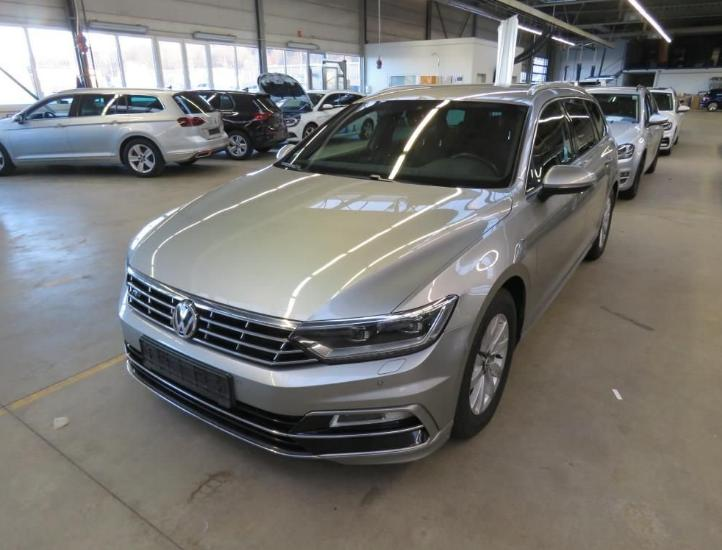Back-door: (561, 97, 612, 257)
Back-wheel: (585, 188, 614, 261)
Back-window: (564, 100, 605, 155)
Fender: (393, 179, 536, 333)
Front-bumper: (118, 276, 477, 464)
Front-door: (524, 98, 587, 317)
Front-wheel: (451, 288, 517, 437)
Front-window: (526, 101, 575, 189)
Grille: (127, 267, 318, 368)
Headlight: (290, 297, 457, 360)
Hood: (127, 165, 511, 322)
License-plate: (140, 336, 236, 411)
Mirror: (539, 167, 597, 202), (277, 143, 298, 161)
Quarter-panel: (598, 133, 620, 232)
Rocker-panel: (522, 244, 592, 338)
Roof: (360, 85, 537, 105), (531, 87, 594, 107)
Windshield: (282, 101, 532, 187)
